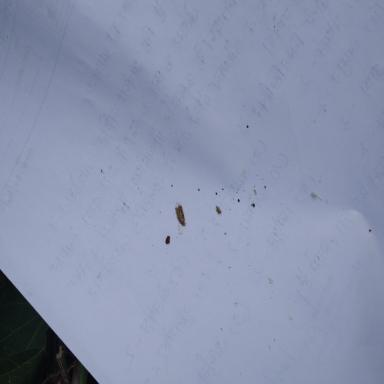pbw: (175, 202, 186, 226)
